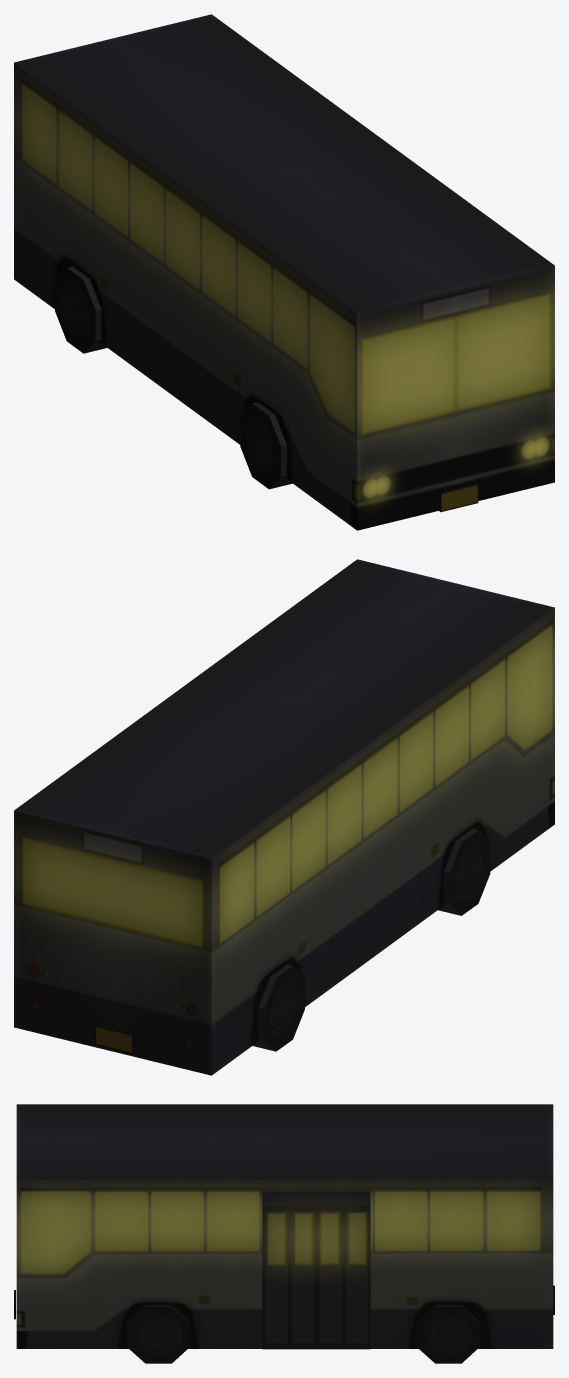
3 views of the same model, one above another, from view 1: azimuth 30°, elevation 25°; view 2: azimuth 150°, elevation 25°; view 3: azimuth 270°, elevation 25° (orthographic). The views are drawn at different scales.
Parts seen in each view (by area): view 1: modelBus; view 2: modelBus; view 3: modelBus.
Boxes of the visible parts, bbox=[...] form: modelBus: bbox=[14, 14, 554, 530]; modelBus: bbox=[14, 559, 554, 1075]; modelBus: bbox=[14, 1104, 554, 1363].
Size of the model in its own units: 1.6 by 1.74 by 4.65.
1 material, 1 textured.
